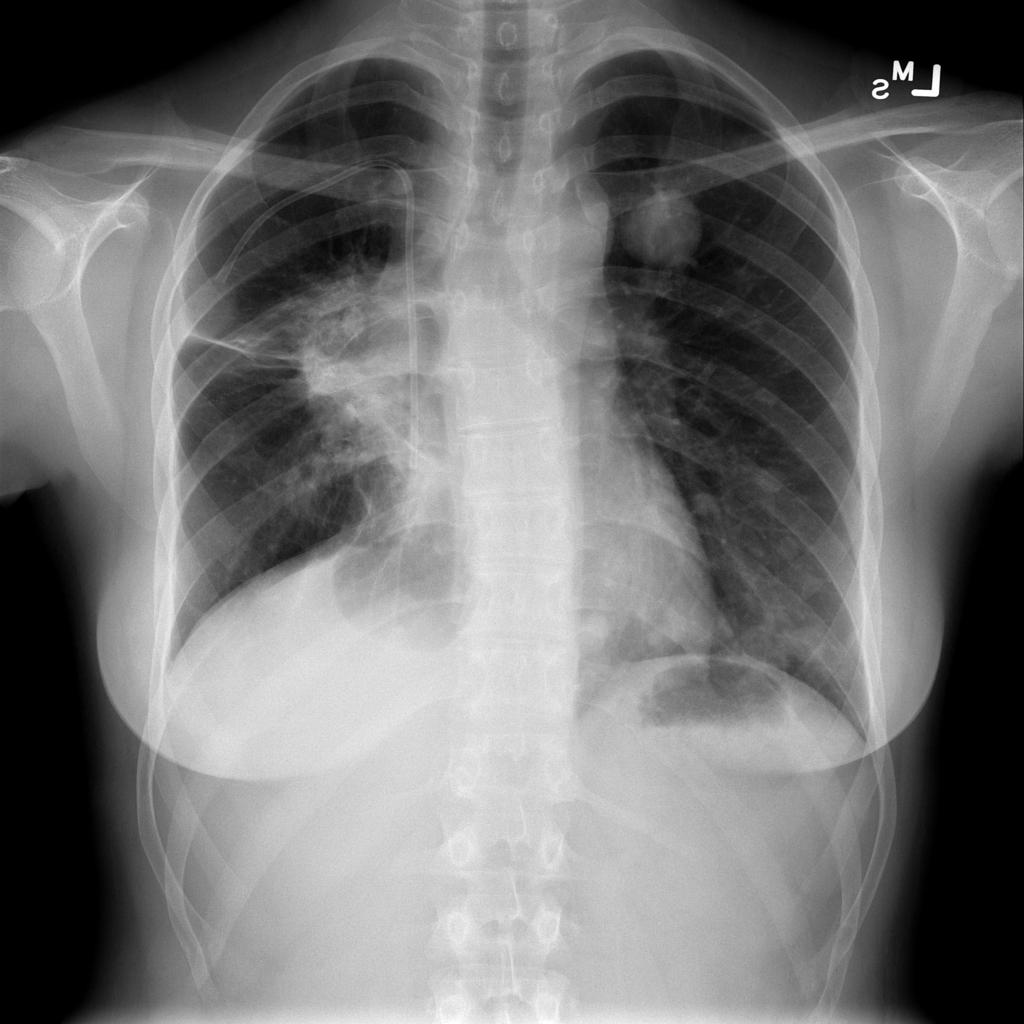nodule: (604, 166, 723, 285), (740, 456, 798, 504), (741, 376, 799, 423), (569, 601, 619, 655), (678, 478, 730, 527), (763, 525, 814, 573)
